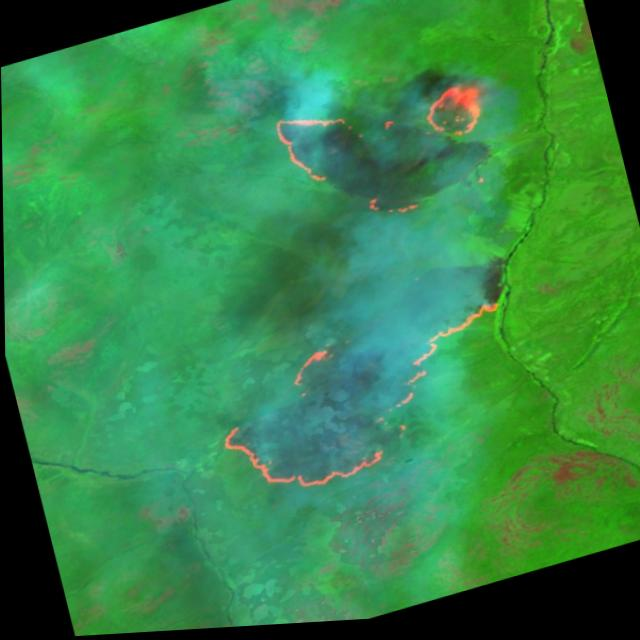fire: (202, 296, 532, 516), (270, 64, 509, 248)
